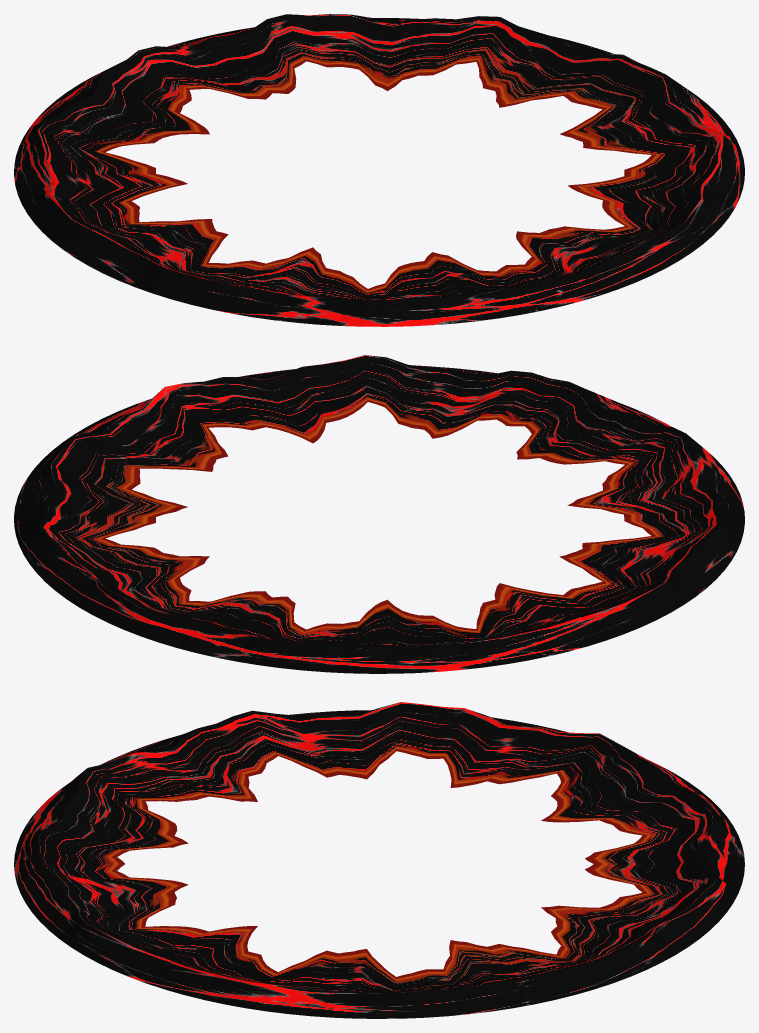
File: Meteor_Explosion_Effect_1.FBX
3 views of the same model, one above another, from view 1: azimuth 30°, elevation 25°; view 2: azimuth 150°, elevation 25°; view 3: azimuth 270°, elevation 25° (orthographic).
Visible parts, largest first — view 1: wave_SM; view 2: wave_SM; view 3: wave_SM.
Boxes of the visible parts, x1,y1,x2,y2 form: wave_SM: (14,14,744,326); wave_SM: (14,355,744,673); wave_SM: (14,702,744,1018).
Size of the model in its own units: 200 by 5.55 by 200.
